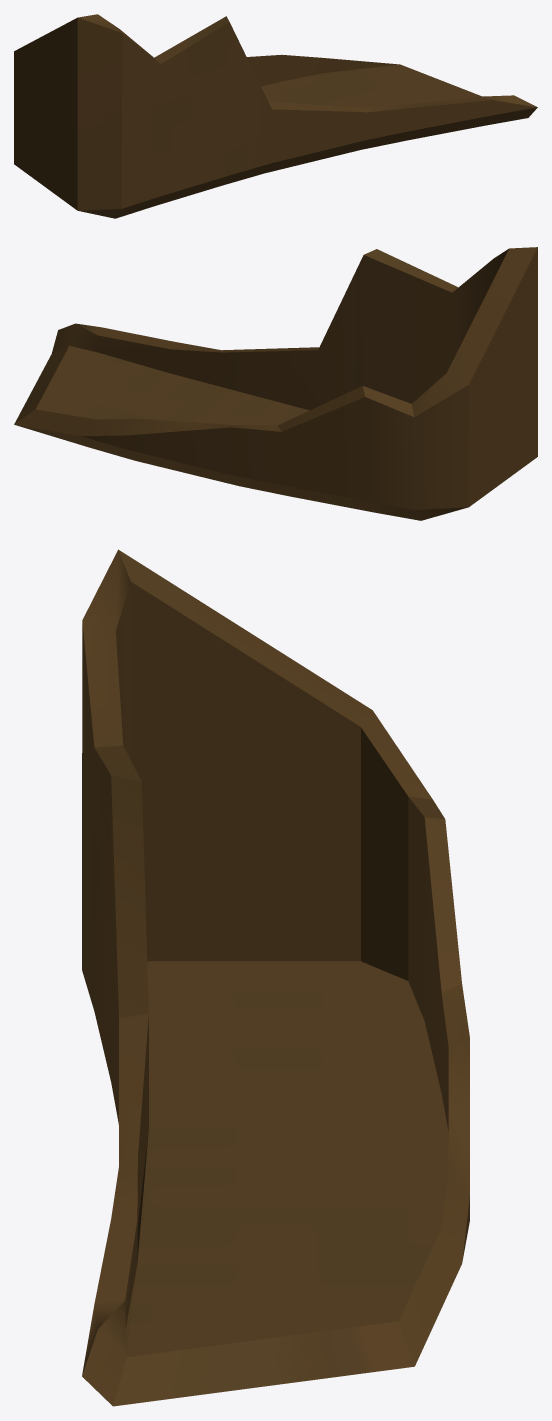
Rendered from Whisky_Shard_Bottom.obj.
3 renders of one model, top to bottom at view 1: azimuth 30°, elevation 25°; view 2: azimuth 150°, elevation 25°; view 3: azimuth 270°, elevation 25°, orthographic. The views are drawn at different scales.
Parts seen in each view (by area): view 1: WhiskyShardBottom; view 2: WhiskyShardBottom; view 3: WhiskyShardBottom.
Part boxes in pixels (x1,y1,x2,y2): WhiskyShardBottom: [14, 14, 537, 218]; WhiskyShardBottom: [14, 247, 537, 520]; WhiskyShardBottom: [82, 549, 469, 1406].
Size of the model in its own units: 17.81 by 7.89 by 6.63.
Materials: 1 (1 with a texture image).
